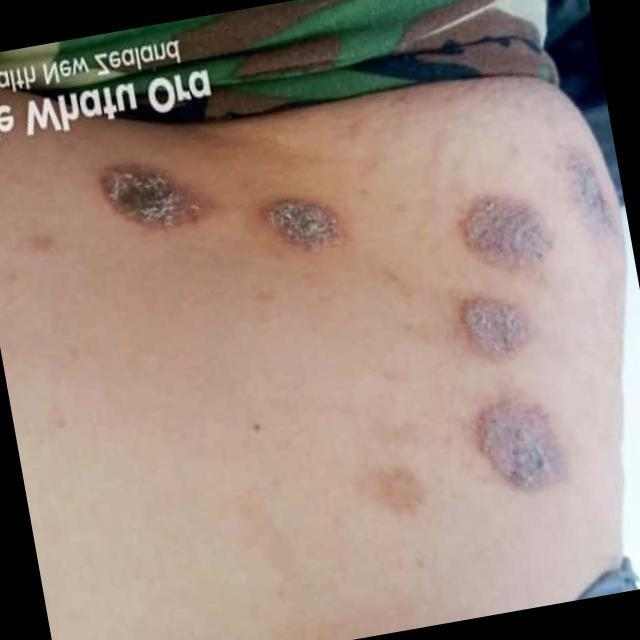Eczema: (479, 393, 572, 498), (454, 190, 552, 268), (94, 166, 211, 230), (457, 296, 541, 366), (271, 190, 346, 250)
